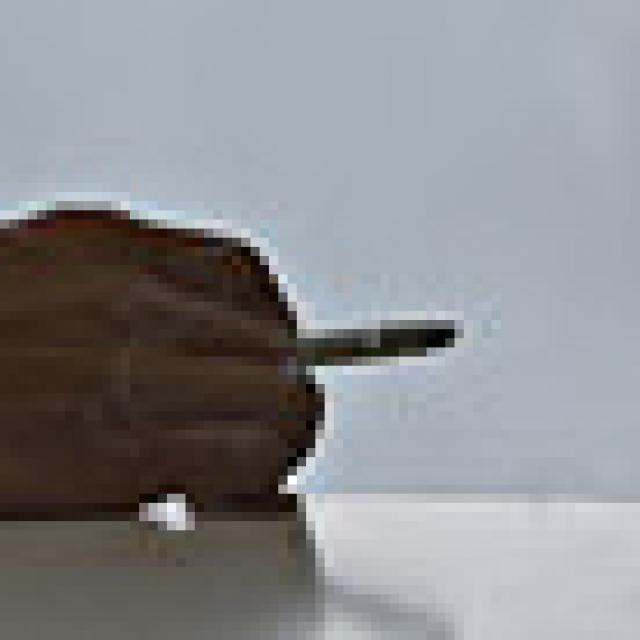smoking: (273, 322, 463, 361)
